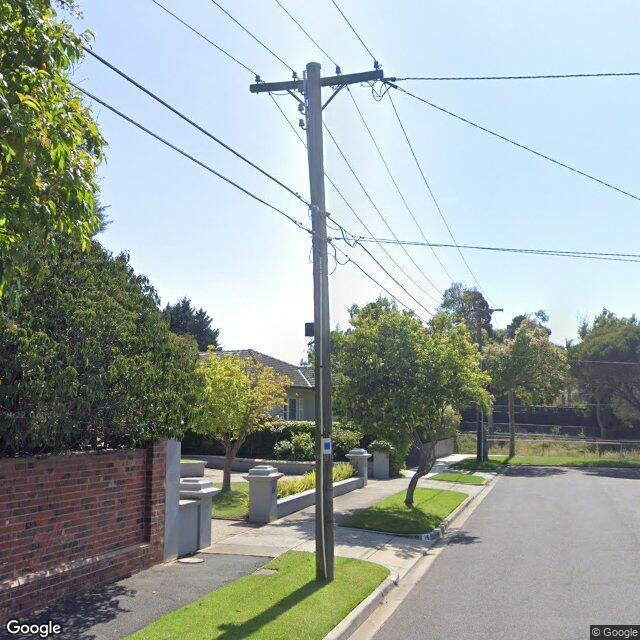crossarm: (249, 60, 396, 95), (478, 308, 503, 312)
timber-pole: (306, 61, 334, 582), (476, 306, 488, 461)
